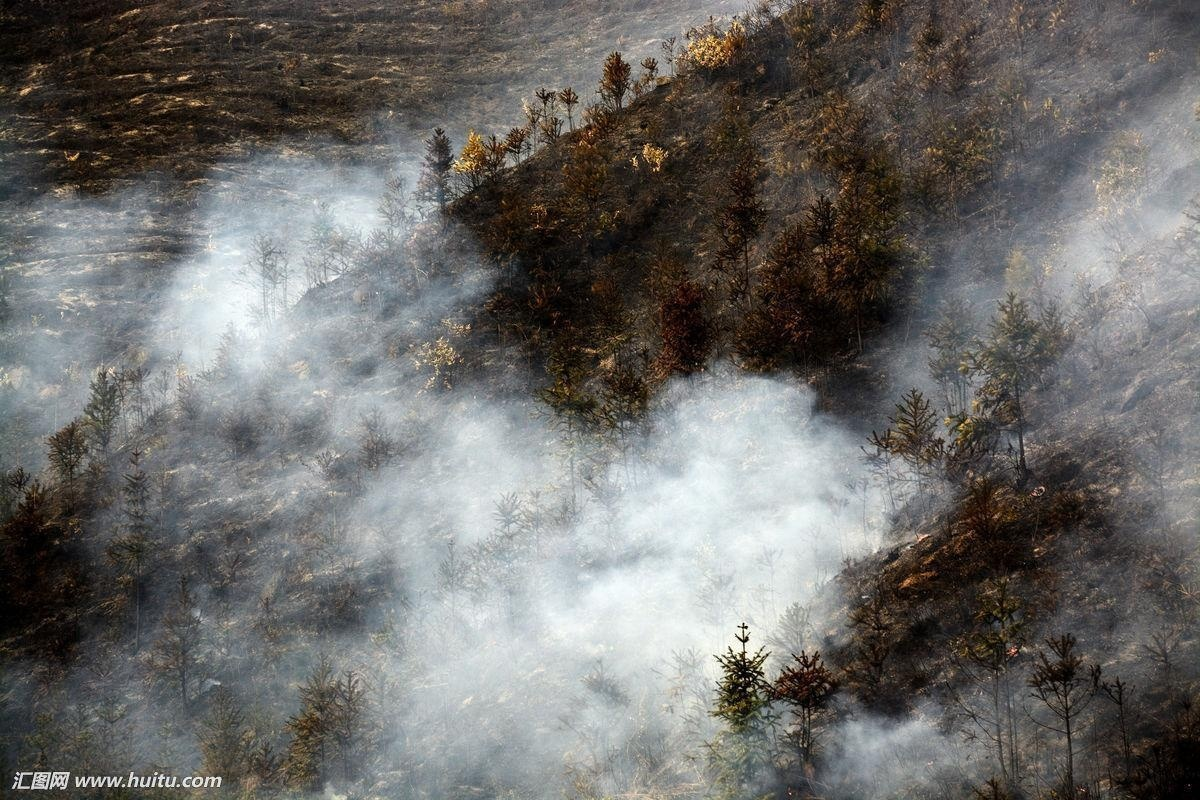fire: (681, 20, 738, 63)
